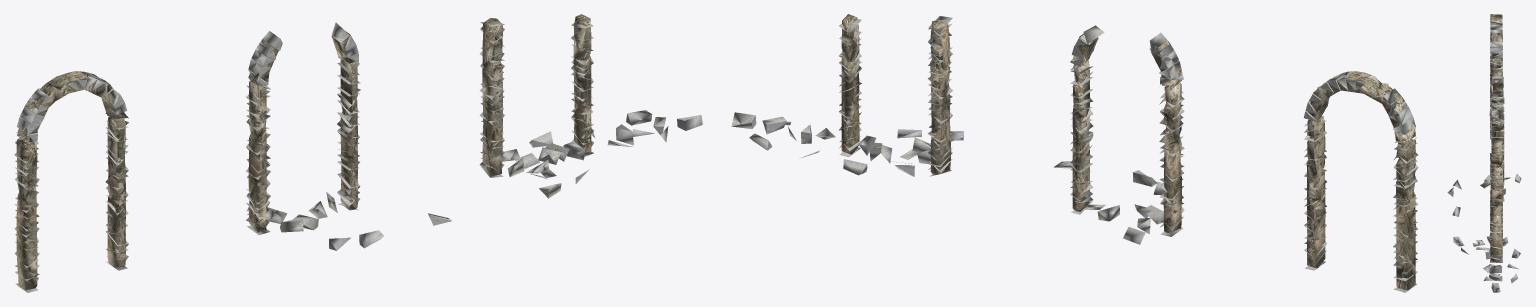
File: arch-ruins.lod1.glb
3 views of the same model, side by side, from view 1: azimuth 30°, elevation 25°; view 2: azimuth 150°, elevation 25°; view 3: azimuth 270°, elevation 25° (orthographic). The views are drawn at different scales.
Parts seen in each view (by area): view 1: Object_5, Object_6; view 2: Object_5, Object_6; view 3: Object_6, Object_5.
Boxes of the visible parts, <box> form: Object_5: <box>16,14,591,290</box>; Object_6: <box>14,21,702,292</box>; Object_5: <box>841,14,1415,290</box>; Object_6: <box>731,16,1418,292</box>; Object_6: <box>1447,14,1521,292</box>; Object_5: <box>1490,14,1503,262</box>.
Bounding box in the file's own units: 17.49 × 4.9 × 3.04.
Materials: 2 (2 with a texture image).
